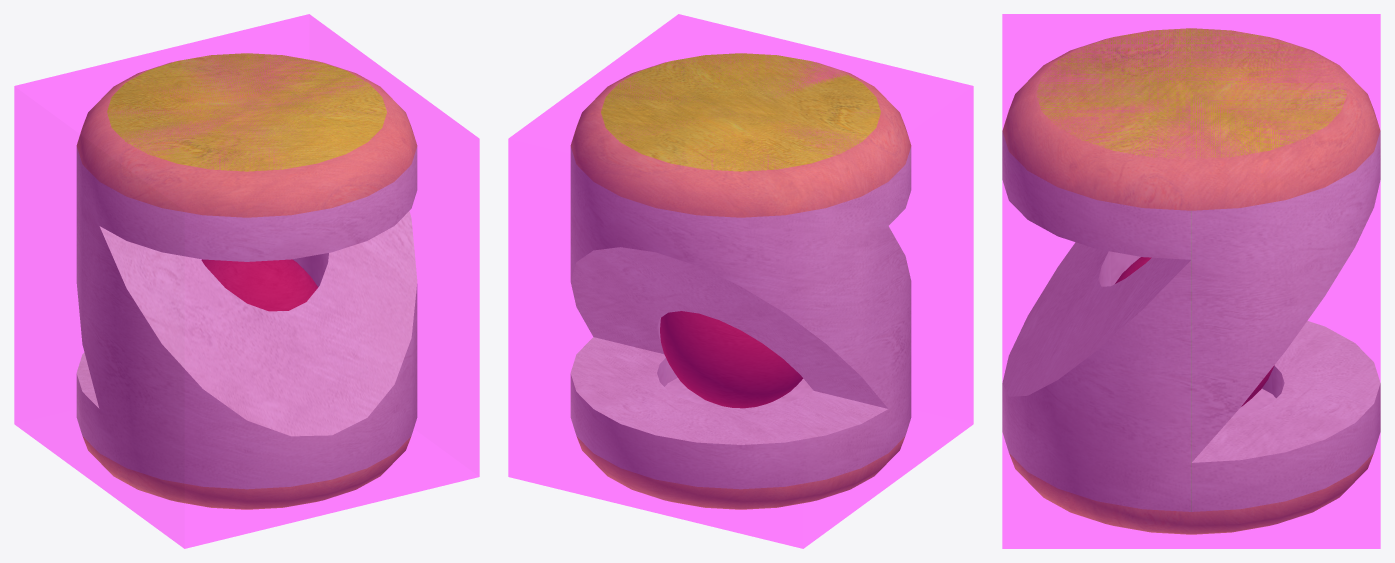
File: babytoy_C.fbx
3 renders of one model, left to right at view 1: azimuth 30°, elevation 25°; view 2: azimuth 150°, elevation 25°; view 3: azimuth 270°, elevation 25°, orthographic. The views are drawn at different scales.
Visible parts, largest first — view 1: boundingbox, toy_C; view 2: boundingbox, toy_C; view 3: boundingbox, toy_C.
Part boxes in pixels (bbox=[...]): boundingbox: bbox=[14, 14, 479, 548]; toy_C: bbox=[76, 53, 417, 509]; boundingbox: bbox=[508, 14, 973, 548]; toy_C: bbox=[570, 53, 911, 509]; boundingbox: bbox=[1002, 14, 1380, 548]; toy_C: bbox=[1002, 28, 1380, 534].
Size of the model in its own units: 8.22 by 9 by 8.22.
4 materials, 3 textured.
